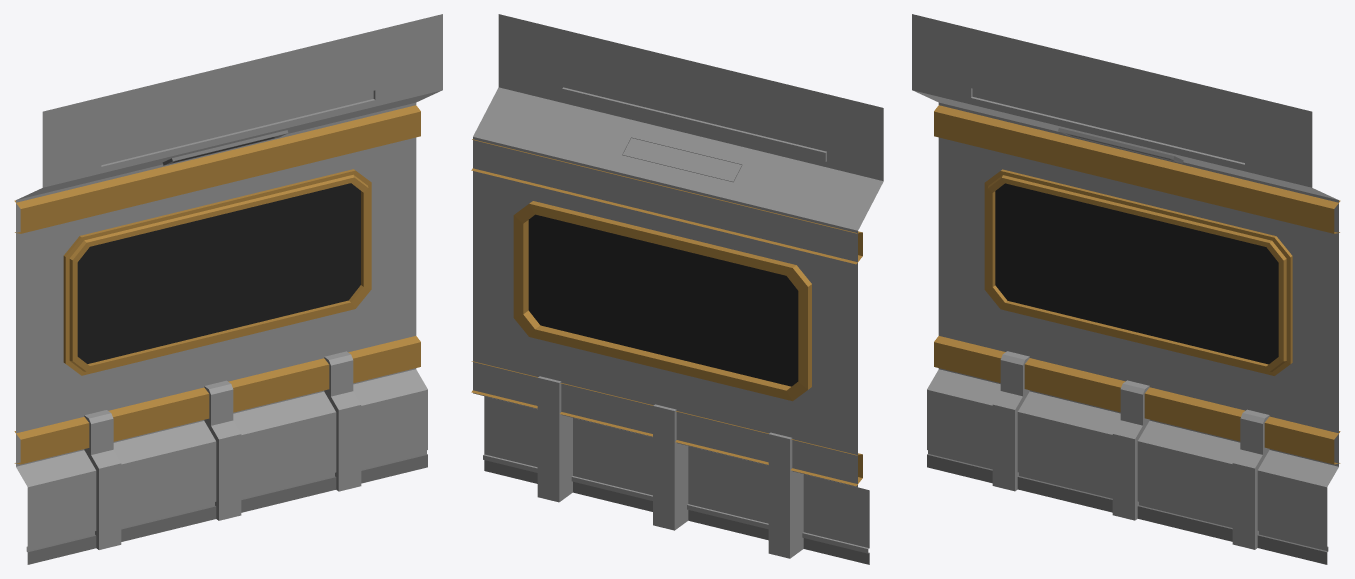
The model's file is Window_Wall_SideB.glb.
3 views of the same model, side by side, from view 1: azimuth 30°, elevation 25°; view 2: azimuth 150°, elevation 25°; view 3: azimuth 330°, elevation 25° (orthographic). The views are drawn at different scales.
Visible parts, largest first — view 1: Window_Wall_SideB; view 2: Window_Wall_SideB; view 3: Window_Wall_SideB.
Boxes of the visible parts, x1,y1,x2,y2 form: Window_Wall_SideB: (14, 14, 442, 564); Window_Wall_SideB: (471, 14, 883, 564); Window_Wall_SideB: (912, 14, 1340, 564).
Bounding box in the file's own units: 1.36 × 1.51 × 0.1821.
